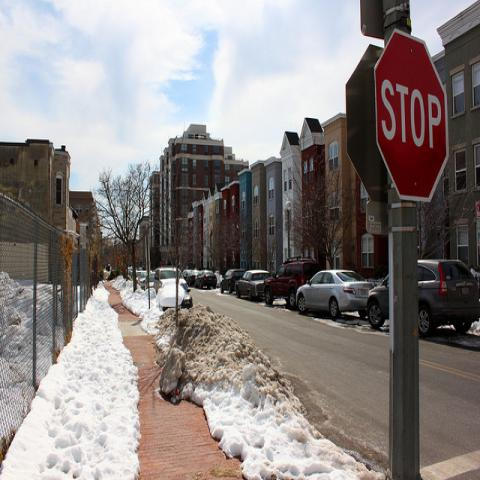car: (418, 260, 479, 338), (295, 269, 373, 318), (264, 257, 320, 310), (235, 268, 272, 300), (156, 280, 192, 311), (368, 278, 388, 328), (153, 267, 188, 294), (220, 268, 246, 295), (194, 270, 217, 289), (186, 270, 200, 286), (136, 270, 147, 288), (182, 267, 192, 277), (128, 267, 133, 280)
